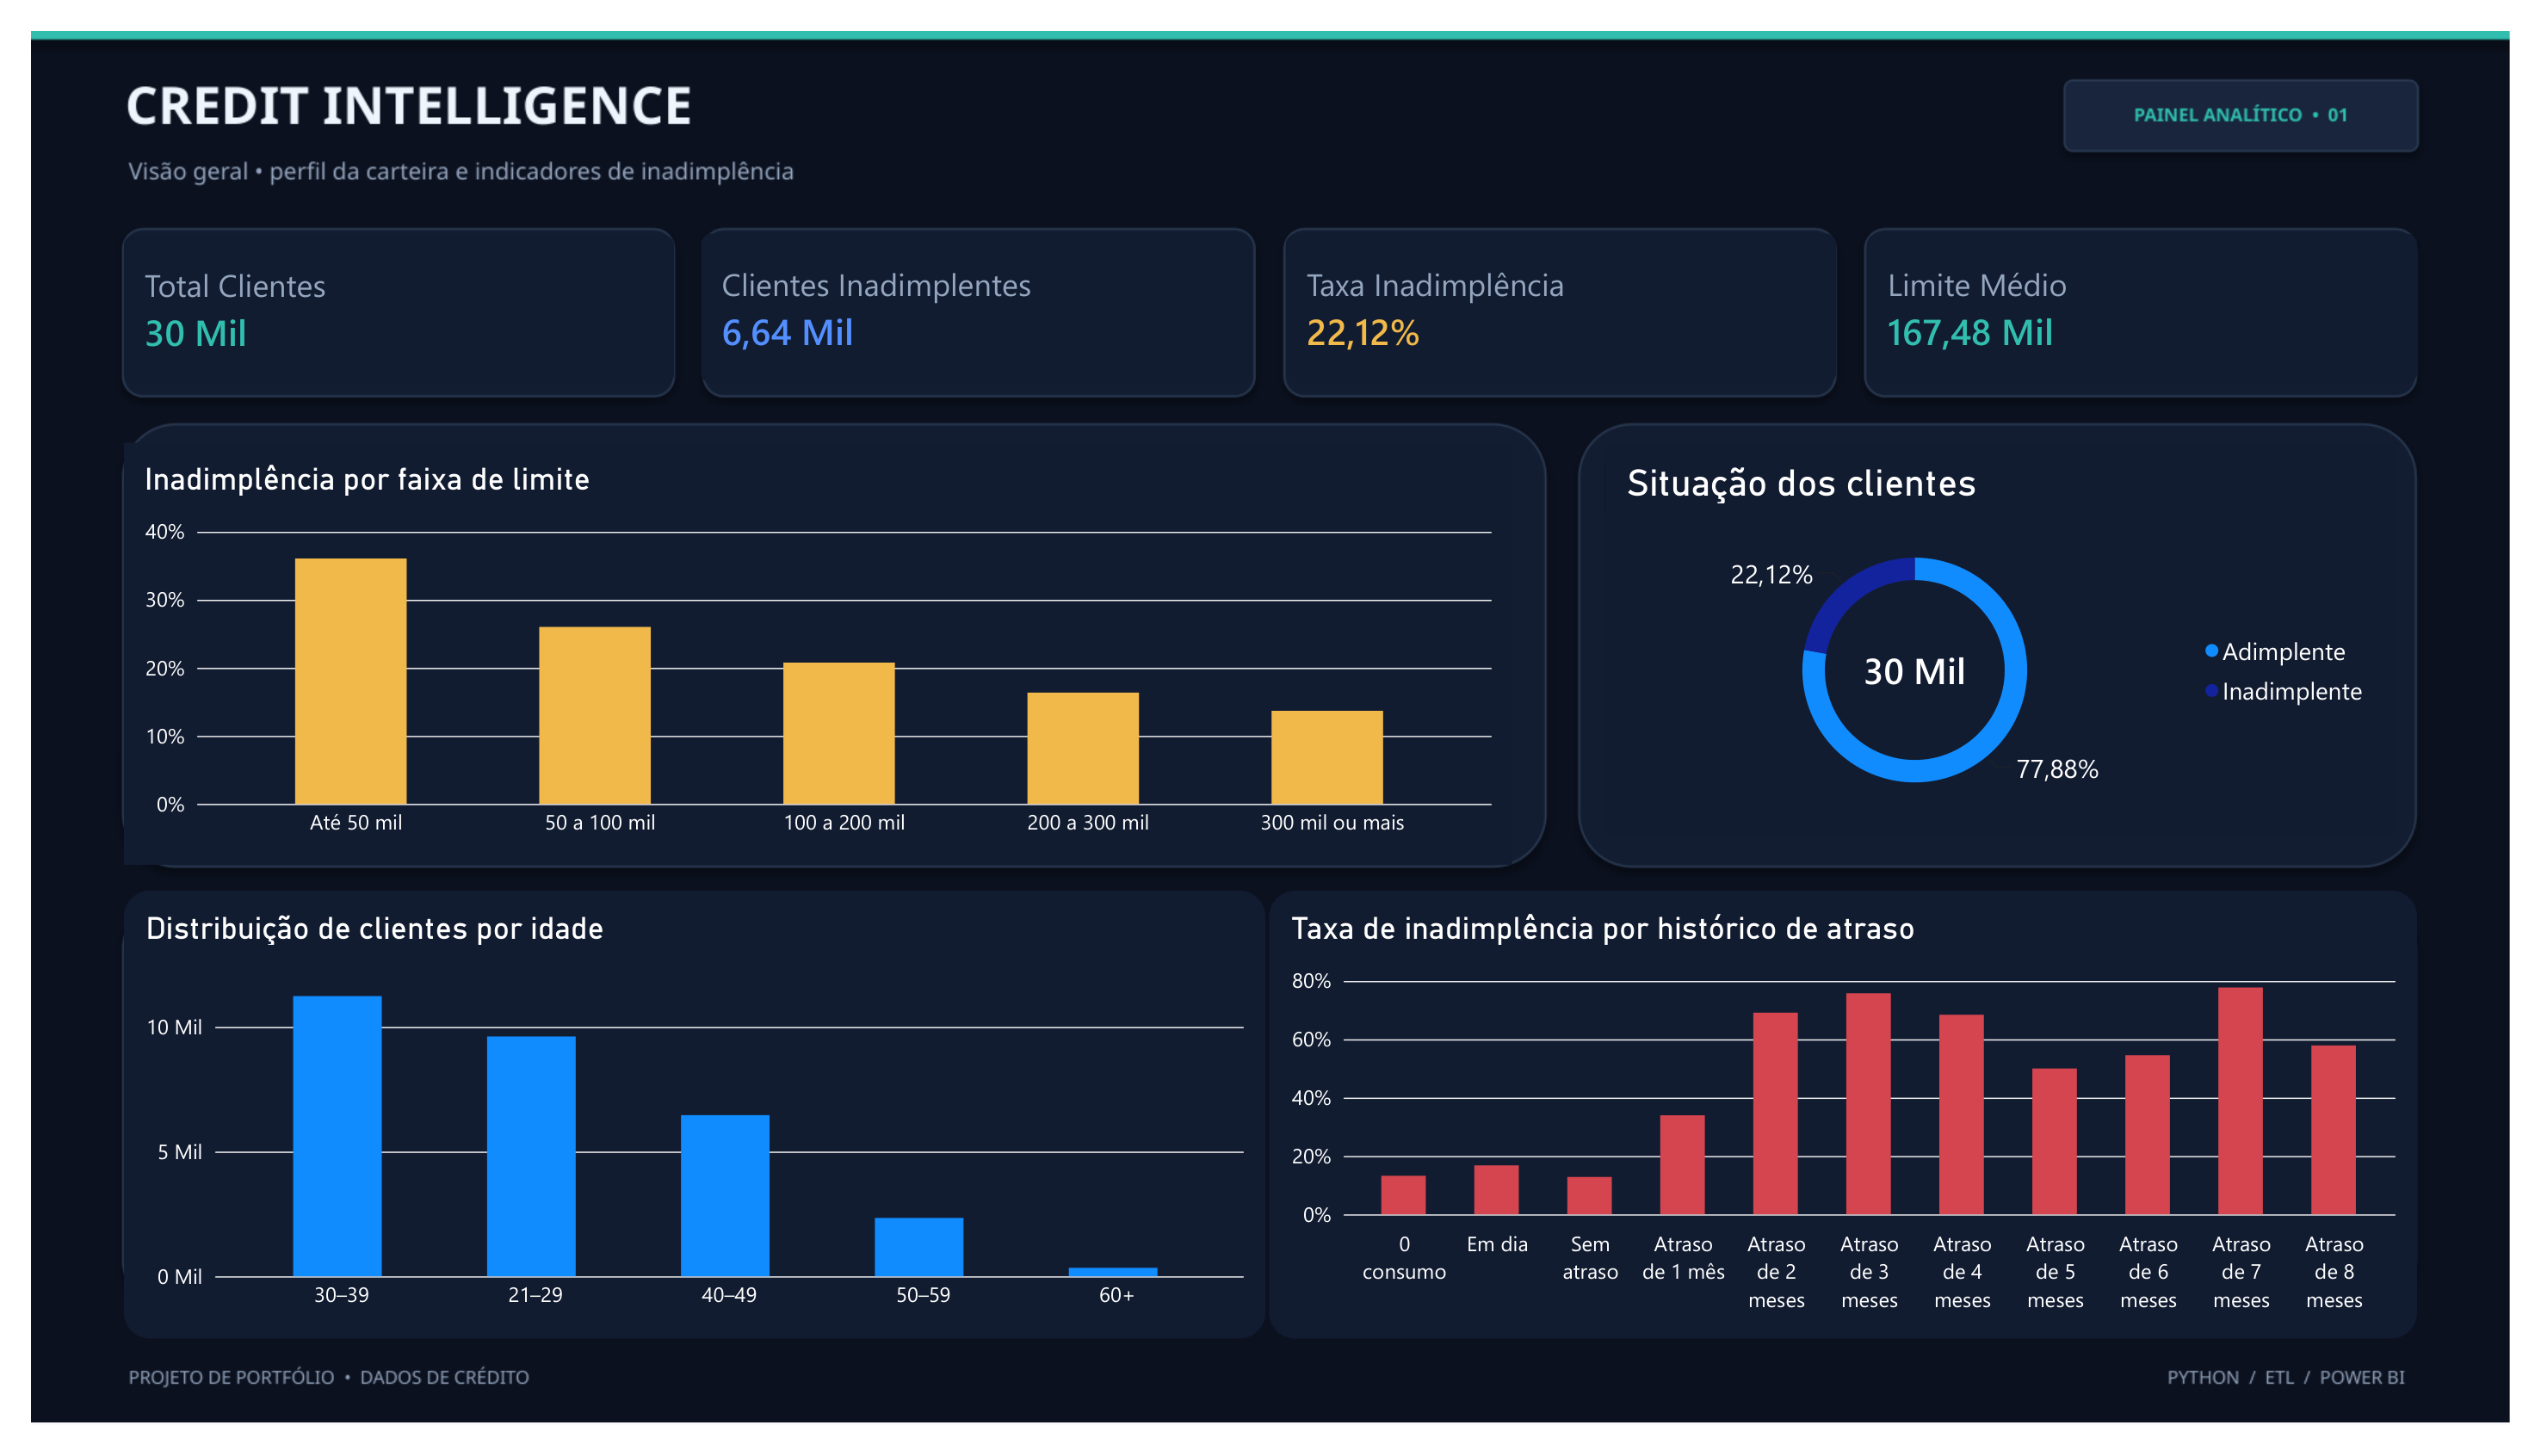

The dashboard page shown, as its layout file describes it:
{"tool":"powerbi","page":{"name":"Visão Geral","canvas":[1920,1080],"ordinal":0},"visuals":[{"type":"cardVisual","fields":{"Data":["default_of_credit_card_clients.Total Clientes"]},"box":[72,158.5,426.1,115.3],"z":0},{"type":"cardVisual","fields":{"Data":["default_of_credit_card_clients.Clientes Inadimplentes"]},"box":[519.4,157.4,426.1,115.3],"z":1000},{"type":"cardVisual","fields":{"Data":["default_of_credit_card_clients.Taxa Inadimplência"]},"box":[971.8,157.4,426.1,115.3],"z":2000},{"type":"cardVisual","fields":{"Data":["default_of_credit_card_clients.Limite Médio"]},"box":[1422.4,157.4,426.1,115.3],"z":3000},{"type":"lineClusteredColumnComboChart","title":"Inadimplência por faixa de limite","fields":{"Category":["default_of_credit_card_clients.faixa_limite"],"Y":["default_of_credit_card_clients.Taxa Inadimplência"]},"box":[72.4,318.5,1074.9,327.5],"z":4000},{"type":"donutChart","title":"Situação dos clientes","fields":{"Category":["default_of_credit_card_clients.Situacao_Cliente"],"Y":["default_of_credit_card_clients.Total Clientes"]},"box":[1219.7,318.5,611.7,305.8],"z":5000},{"type":"lineClusteredColumnComboChart","title":"Distribuição de clientes por idade","fields":{"Category":["default_of_credit_card_clients.faixa_etaria"],"Y":["default_of_credit_card_clients.Total Clientes"]},"box":[72.4,666,883.1,347.5],"z":6000},{"type":"lineClusteredColumnComboChart","title":"Taxa de inadimplência por histórico de atraso","fields":{"Category":["default_of_credit_card_clients.Historico_Atraso"],"Y":["default_of_credit_card_clients.Taxa Inadimplência"]},"box":[959.1,666,888.5,347.5],"z":7000}]}

Visuals, with their boxes in screenshot pixels (x1, y1, x2, y2), scaled from the page's 1920x1080 canvas onto the 2541x1456 screenshot:
cardVisual - default_of_credit_card_clients.Total Clientes: (96, 213, 659, 369)
cardVisual - default_of_credit_card_clients.Clientes Inadimplentes: (688, 213, 1252, 367)
cardVisual - default_of_credit_card_clients.Taxa Inadimplência: (1286, 213, 1850, 367)
cardVisual - default_of_credit_card_clients.Limite Médio: (1883, 213, 2446, 367)
"Inadimplência por faixa de limite" lineClusteredColumnComboChart: (96, 429, 1518, 871)
"Situação dos clientes" donutChart: (1614, 429, 2424, 842)
"Distribuição de clientes por idade" lineClusteredColumnComboChart: (96, 898, 1264, 1367)
"Taxa de inadimplência por histórico de atraso" lineClusteredColumnComboChart: (1270, 898, 2445, 1367)
